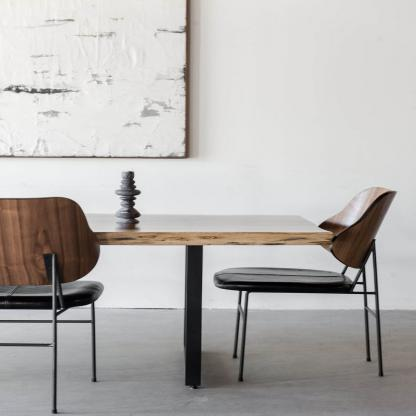chair: (211, 179, 399, 399), (0, 199, 119, 416)
table: (0, 207, 332, 389)
